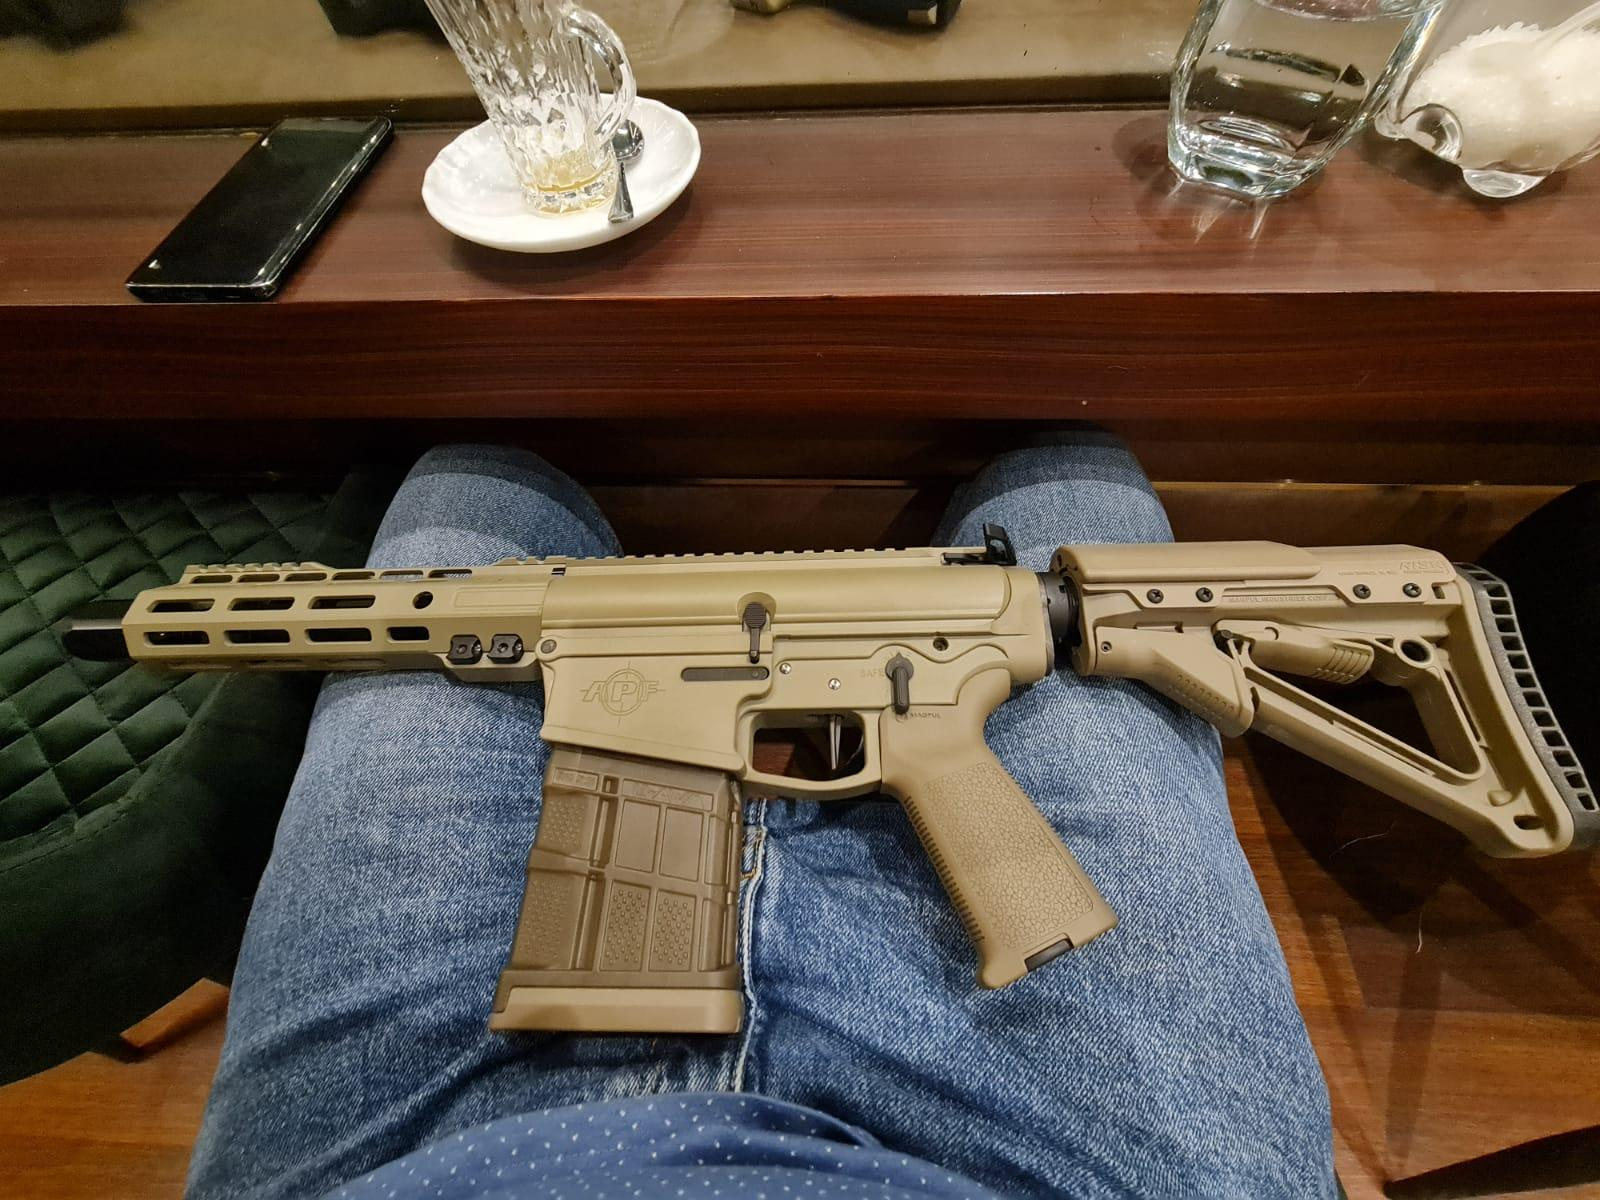weapon: (63, 521, 1600, 1040)
